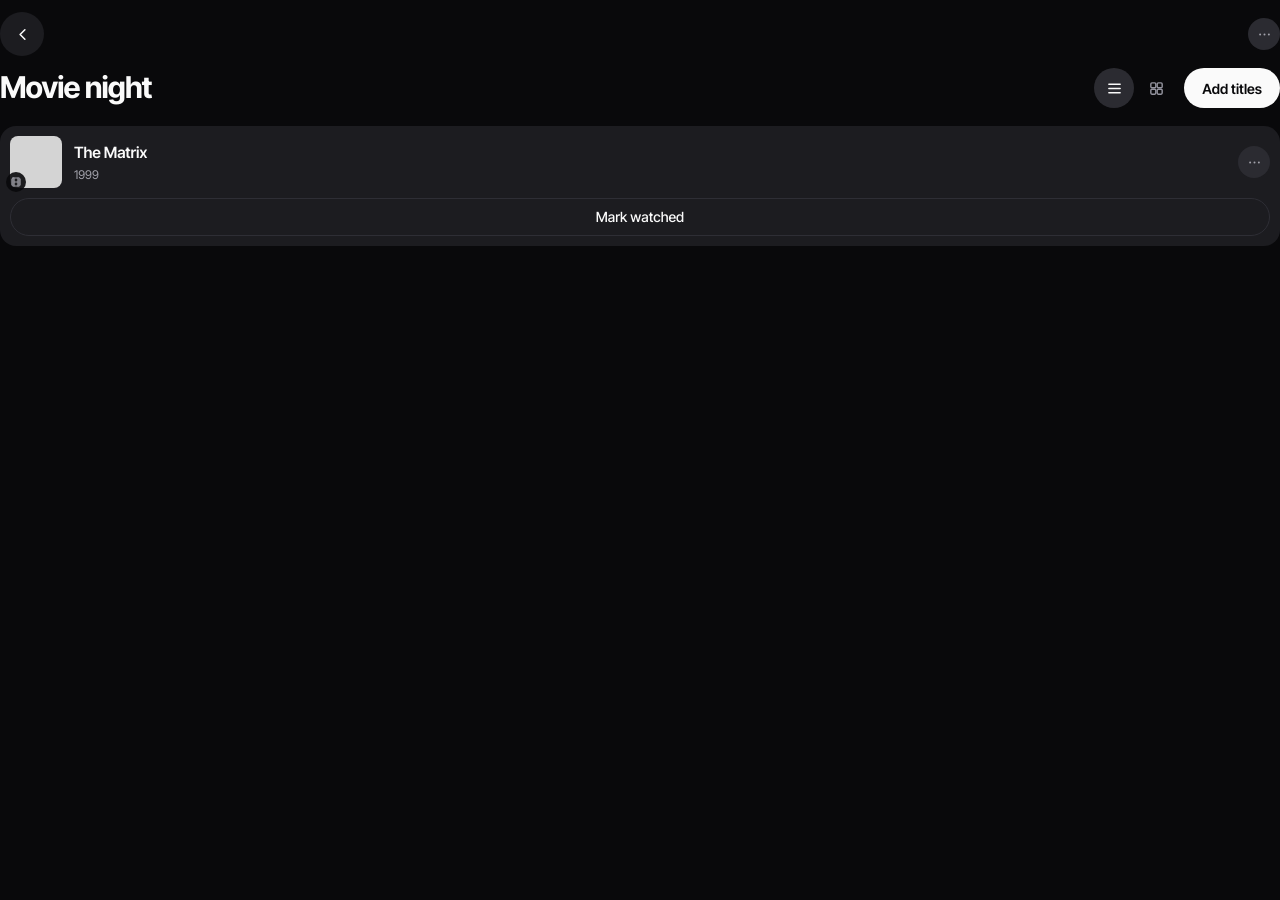
row menu › removes from the list and keeps a failure on screen
The width and height of the screenshot is (1280, 900).
Click the button named "Options for The Matrix".
click(1254, 162)  # box [1232,140,1276,184]
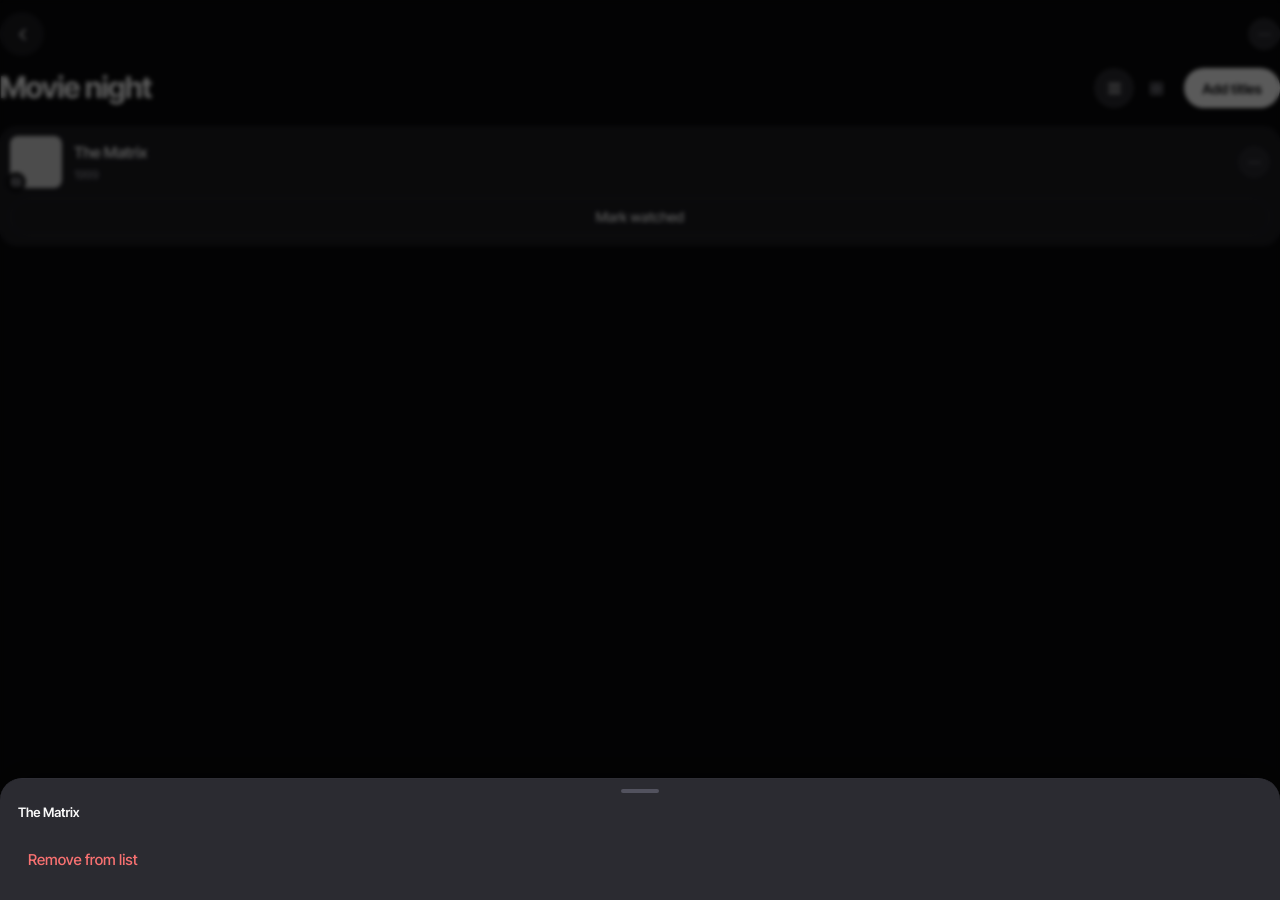
Click the button "Remove from list".
click(83, 859)  # box [12,832,1268,888]
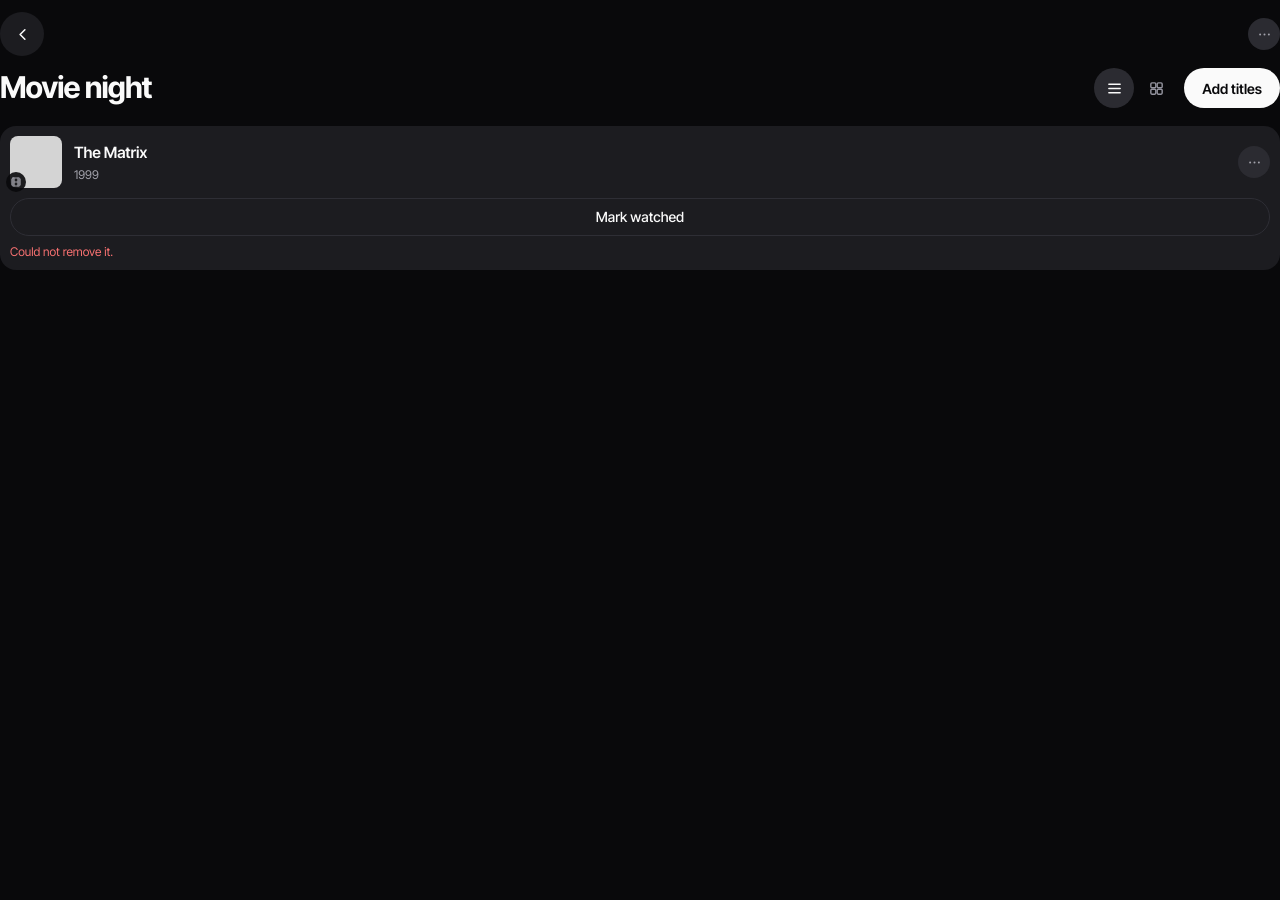
Expected: the text "Could not remove it." is shown, [10,244,113,259]
